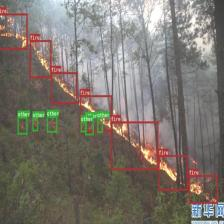fire: (111, 121, 158, 169), (80, 95, 111, 131), (158, 155, 188, 190), (0, 13, 27, 49), (188, 175, 218, 204), (29, 40, 51, 78), (50, 72, 76, 104)
